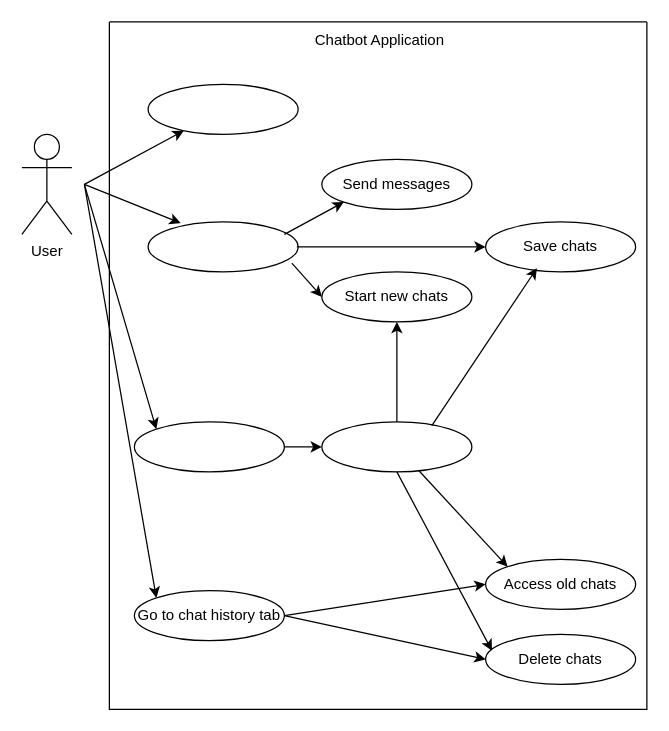
Some shapes in this 669 by 731 pixel diagram are drawn without their labels. Each missing label, with the centre of its shape:
Go to home/chat tab: the point at 222,246
Go to settings tab: the point at 208,446
Log in via github: the point at 396,446
Switch theme: the point at 222,108
